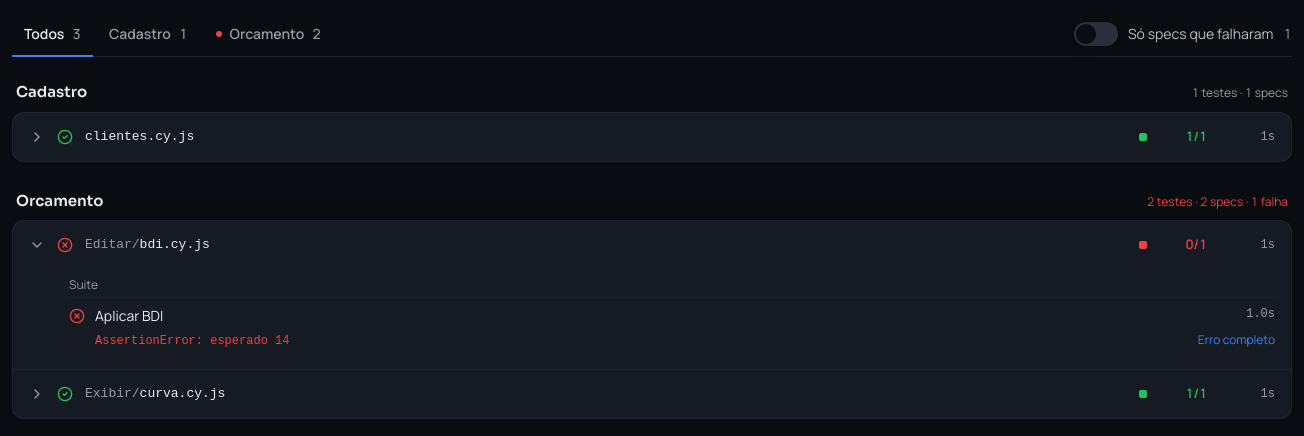
Árvore de testes › filtra por módulo e por specs que falharam
The image size is (1304, 436).
Click the button "Cadastro 1" at coordinates (148, 34), box 97,12 -> 200,56
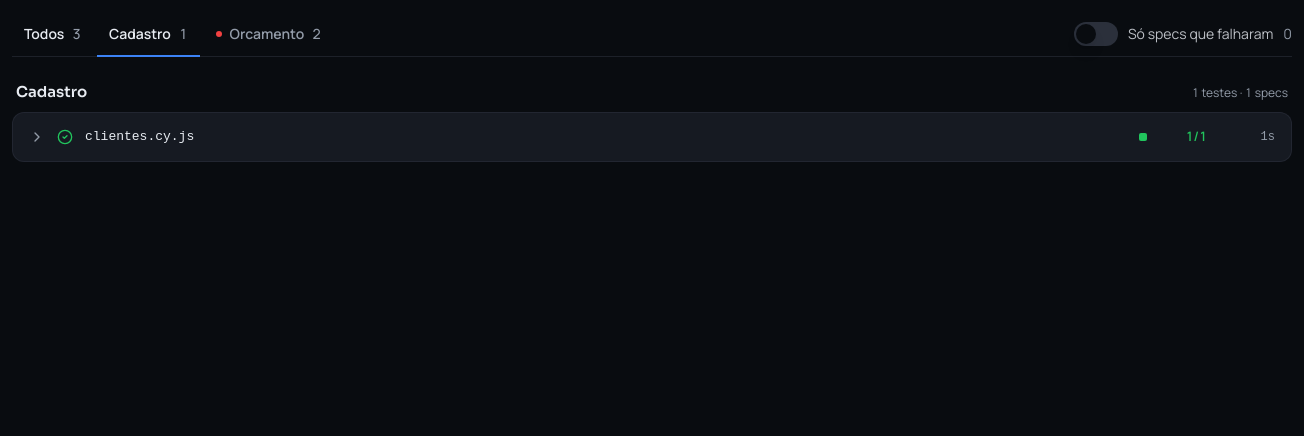
Click the switch at coordinates (1096, 34), box 1074,22 -> 1118,46
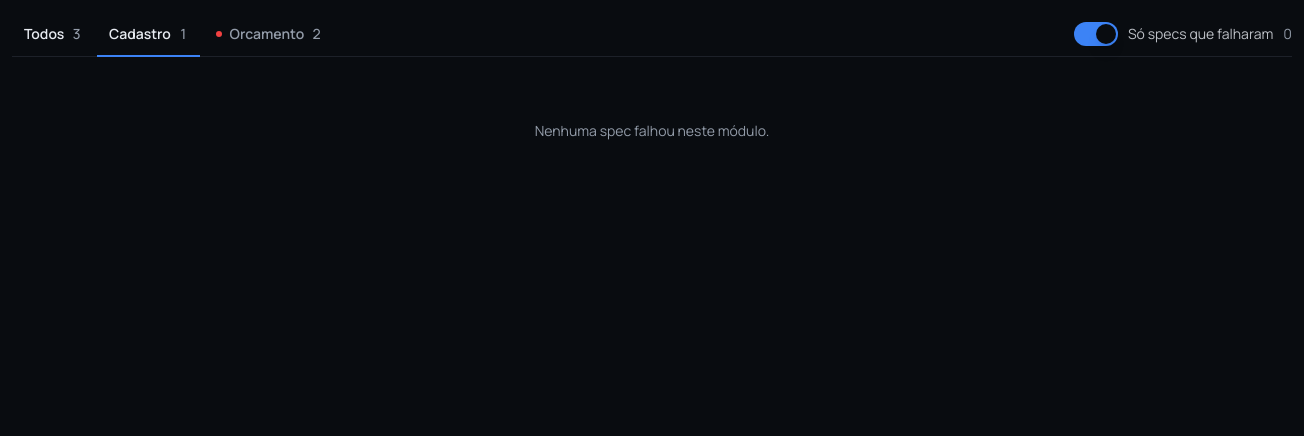
Expected: the text "Nenhuma spec falhou neste módulo." is shown, 535,121 -> 769,140
Click the button "Todos 3" at coordinates (52, 34), box 12,12 -> 93,56
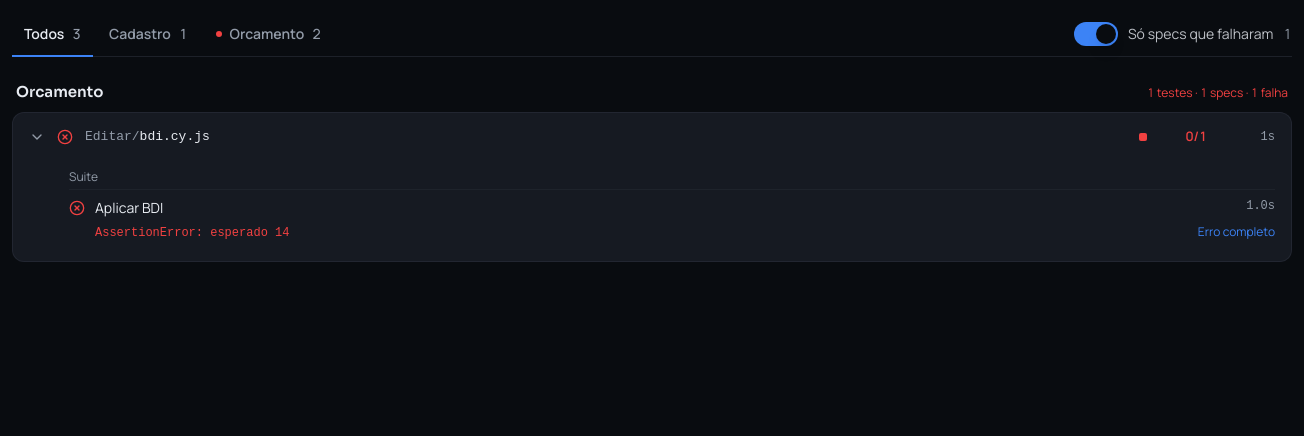
Expected: the button "curva.cy.js" is not shown
Expected: the text "bdi.cy.js" is shown, 140,129 -> 210,144
